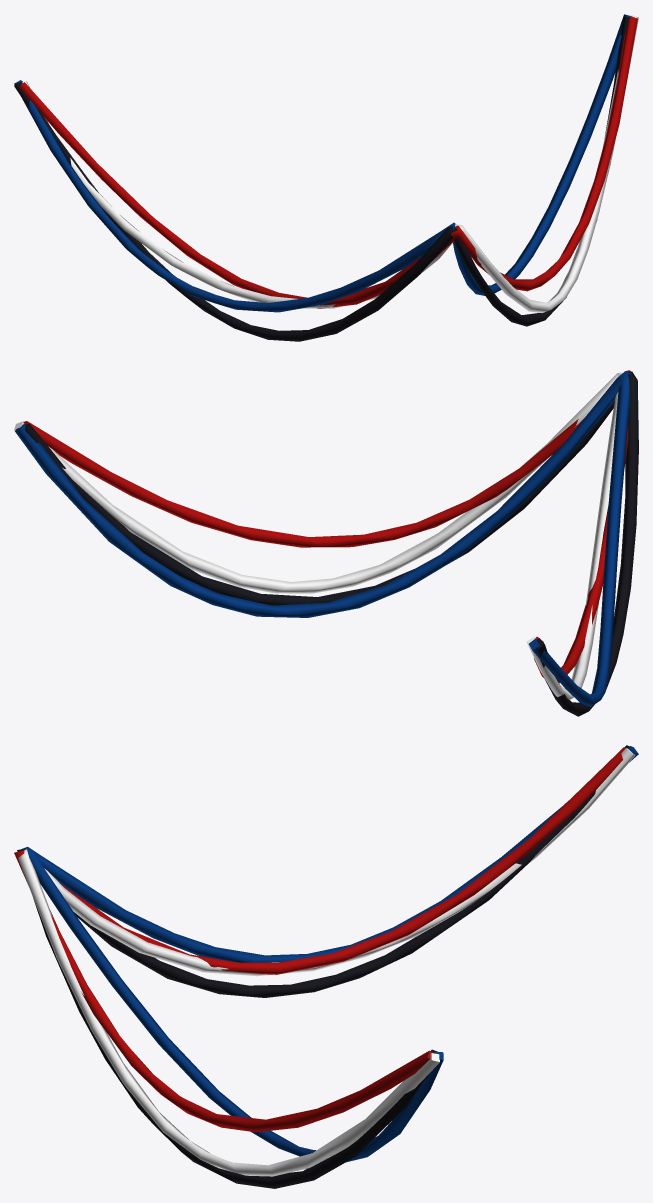
The model's file is cables_double_medium.fbx.
The picture shows the model from 3 angles, top to bottom: view 1: azimuth 30°, elevation 25°; view 2: azimuth 150°, elevation 25°; view 3: azimuth 270°, elevation 25°; orthographic projection. The views are drawn at different scales.
Visible parts, largest first — view 1: cables_double_medium; view 2: cables_double_medium; view 3: cables_double_medium.
Part boxes in pixels (x1=…): cables_double_medium: x1=14, y1=14, x2=638, y2=341; cables_double_medium: x1=14, y1=370, x2=638, y2=716; cables_double_medium: x1=14, y1=745, x2=638, y2=1188.
Bounding box in the file's own units: 416 × 139 × 353.
